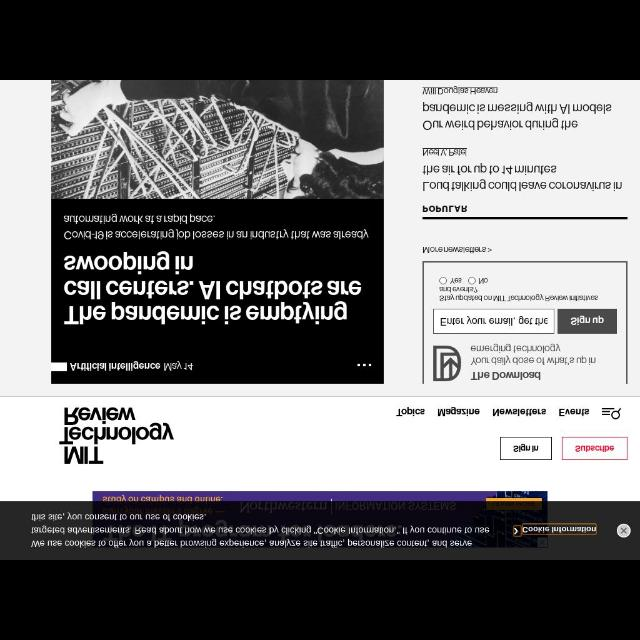button: (617, 523, 631, 537)
checkbox: (438, 276, 448, 284), (468, 276, 476, 284)
icon: (432, 345, 462, 381), (602, 406, 622, 419), (620, 526, 628, 534), (356, 363, 372, 367)
iframe: (1, 500, 639, 560)
image: (52, 82, 384, 198)
input: (433, 308, 555, 334)
multitab: (396, 407, 590, 417)
text: (63, 250, 361, 326), (31, 512, 490, 548), (62, 212, 368, 240), (59, 406, 174, 464), (422, 162, 622, 192), (422, 100, 612, 130), (470, 343, 596, 381), (439, 286, 599, 302), (70, 361, 194, 371), (439, 316, 548, 326), (514, 526, 596, 534), (422, 86, 498, 94), (422, 246, 492, 254), (492, 408, 546, 417), (422, 146, 468, 156), (436, 406, 479, 416), (572, 314, 604, 326), (422, 204, 466, 212), (575, 444, 615, 452), (558, 408, 590, 417), (396, 408, 426, 417), (512, 443, 538, 452), (450, 278, 462, 284), (478, 278, 488, 284)
textbutton: (562, 436, 628, 460), (558, 308, 618, 334), (500, 436, 552, 459)
